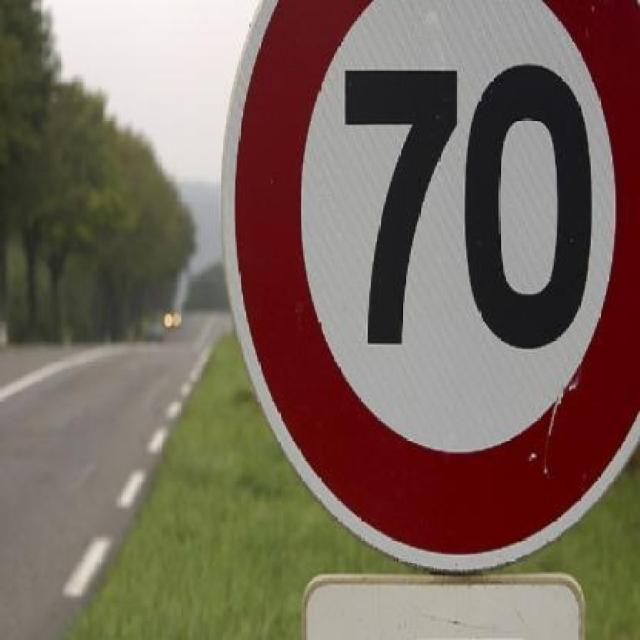forb_speed_over_70: (241, 0, 640, 555)
